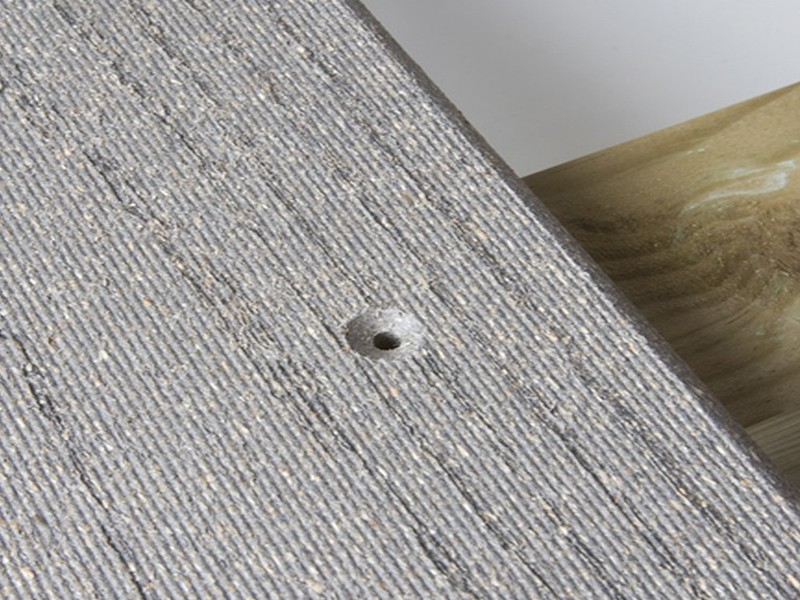hole: (372, 331, 403, 351)
